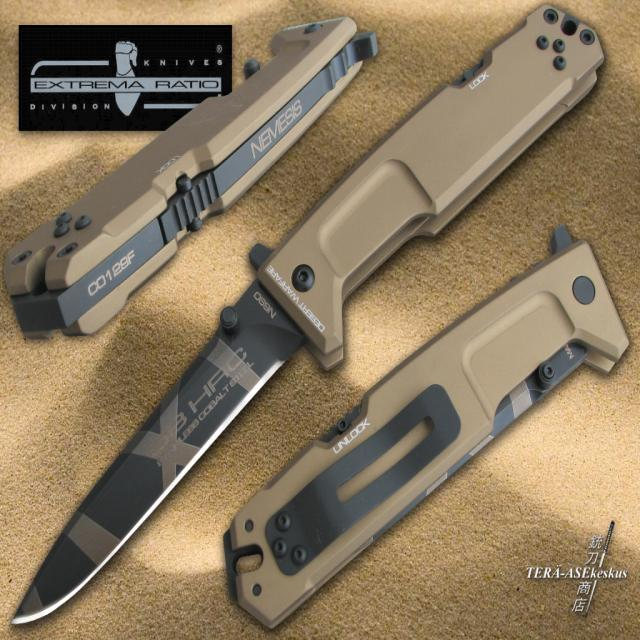knife: (6, 4, 611, 640)
